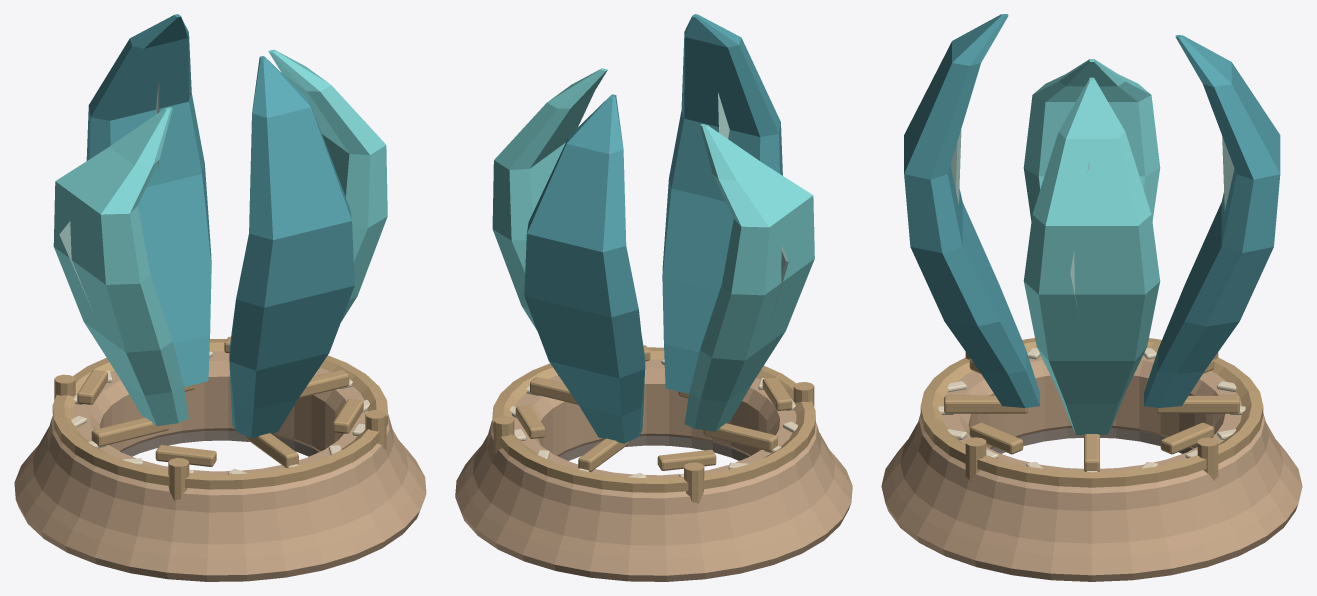
The model's file is world10-refraction-v1.glb.
3 views of the same model, side by side, from view 1: azimuth 30°, elevation 25°; view 2: azimuth 150°, elevation 25°; view 3: azimuth 270°, elevation 25° (orthographic). The views are drawn at different scales.
Visible parts, largest first — view 1: refraction-bloom-refraction-crystal-deep, refraction-pedestal-sandstone-warm, refraction-bloom-refraction-crystal-aqua, refraction-pedestal-aged-copper, refraction-bloom-aged-copper, refraction-pedestal-sandstone-shadow, refraction-pedestal-ivory-carving; view 2: refraction-bloom-refraction-crystal-deep, refraction-pedestal-sandstone-warm, refraction-bloom-refraction-crystal-aqua, refraction-pedestal-aged-copper, refraction-bloom-aged-copper, refraction-pedestal-sandstone-shadow, refraction-pedestal-ivory-carving, refraction-bloom-refraction-crystal-pale; view 3: refraction-pedestal-sandstone-warm, refraction-bloom-refraction-crystal-deep, refraction-bloom-refraction-crystal-aqua, refraction-pedestal-aged-copper, refraction-bloom-aged-copper, refraction-pedestal-sandstone-shadow, refraction-pedestal-ivory-carving, refraction-bloom-refraction-crystal-pale.
Part boxes in pixels (left/top/right/bottom): refraction-bloom-refraction-crystal-deep: left=86, top=14, right=354, bottom=438; refraction-pedestal-sandstone-warm: left=14, top=351, right=426, bottom=581; refraction-bloom-refraction-crystal-aqua: left=53, top=49, right=387, bottom=426; refraction-pedestal-aged-copper: left=52, top=336, right=388, bottom=501; refraction-bloom-aged-copper: left=91, top=370, right=349, bottom=467; refraction-pedestal-sandstone-shadow: left=121, top=430, right=318, bottom=456; refraction-pedestal-ivory-carving: left=71, top=351, right=369, bottom=474; refraction-bloom-refraction-crystal-deep: left=524, top=14, right=782, bottom=443; refraction-pedestal-sandstone-warm: left=455, top=359, right=852, bottom=581; refraction-bloom-refraction-crystal-aqua: left=492, top=68, right=814, bottom=431; refraction-pedestal-aged-copper: left=492, top=345, right=815, bottom=503; refraction-bloom-aged-copper: left=530, top=377, right=777, bottom=471; refraction-pedestal-sandstone-shadow: left=559, top=436, right=749, bottom=460; refraction-pedestal-ivory-carving: left=510, top=359, right=797, bottom=477; refraction-bloom-refraction-crystal-pale: left=718, top=92, right=788, bottom=324; refraction-pedestal-sandstone-warm: left=881, top=355, right=1302, bottom=581; refraction-bloom-refraction-crystal-deep: left=904, top=14, right=1280, bottom=407; refraction-bloom-refraction-crystal-aqua: left=1023, top=59, right=1160, bottom=434; refraction-pedestal-aged-copper: left=920, top=338, right=1263, bottom=487; refraction-bloom-aged-copper: left=944, top=395, right=1239, bottom=471; refraction-pedestal-sandstone-shadow: left=991, top=428, right=1192, bottom=453; refraction-pedestal-ivory-carving: left=938, top=348, right=1245, bottom=472; refraction-bloom-refraction-crystal-pale: left=950, top=129, right=1234, bottom=307.
Size of the model in its own units: 2.9 by 3.64 by 2.9.
